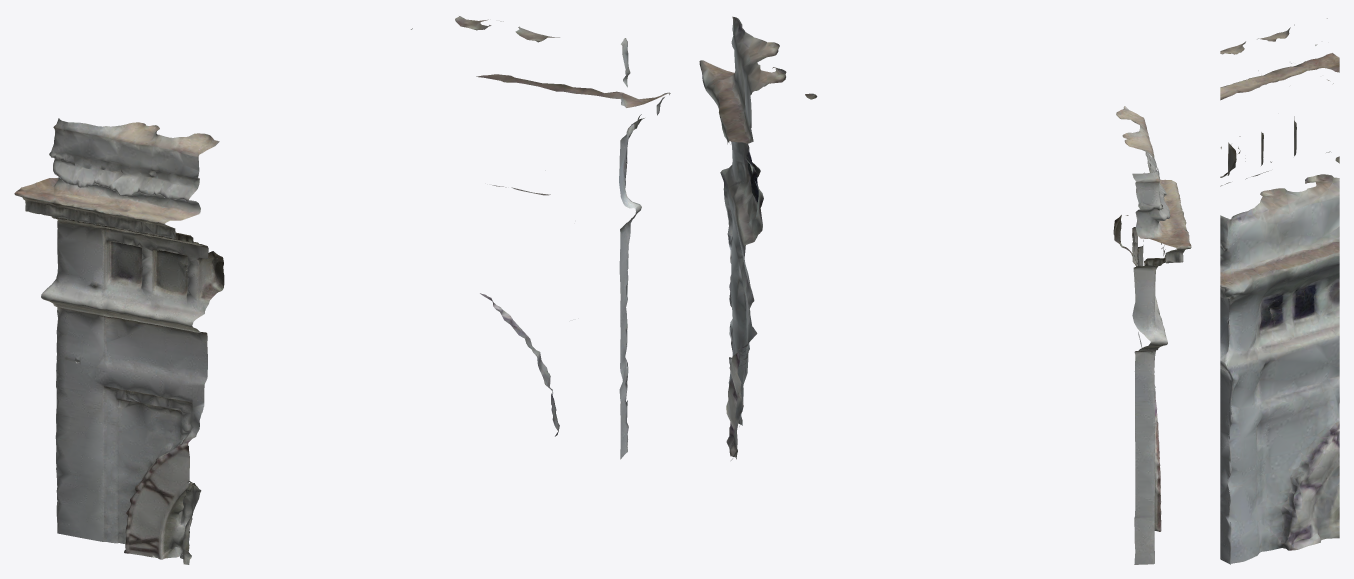
3 views of the same model, side by side, from view 1: azimuth 30°, elevation 25°; view 2: azimuth 150°, elevation 25°; view 3: azimuth 270°, elevation 25° (orthographic). The views are drawn at different scales.
Size of the model in its own units: 16.15 by 10.88 by 3.41.
1 material, 1 textured.
